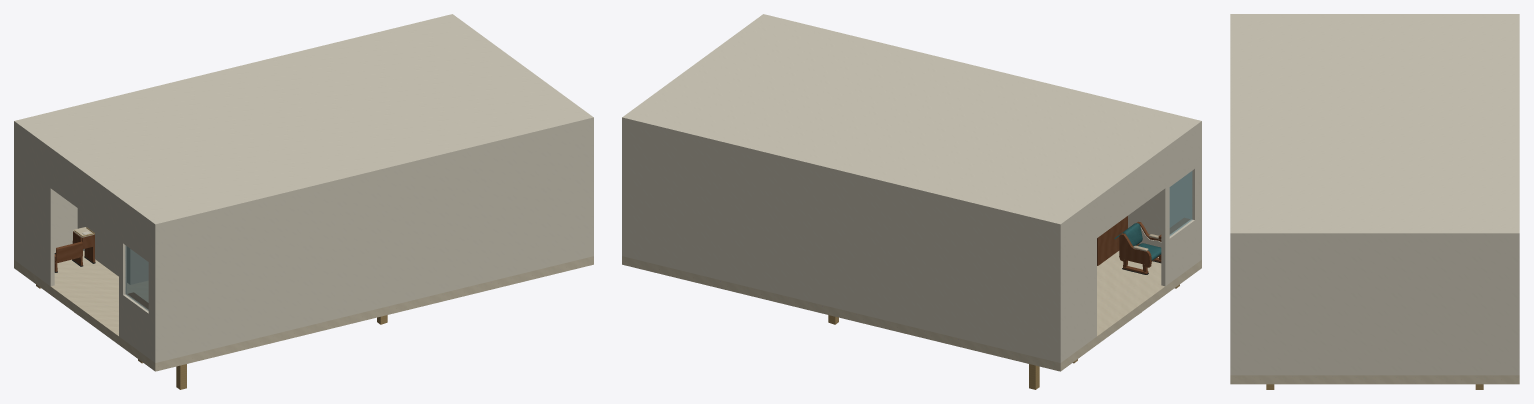
File: NightGardenD15Specialty_410_r002.glb
3 views of the same model, side by side, from view 1: azimuth 30°, elevation 25°; view 2: azimuth 150°, elevation 25°; view 3: azimuth 270°, elevation 25° (orthographic). The views are drawn at different scales.
Parts seen in each view (by area): view 1: NG410_RuntimeBatch_001, NG410_RoomFloor, NG410_ScreenedStreetGlass, NG410_RuntimeBatch_013; view 2: NG410_RuntimeBatch_001, NG410_RoomFloor, NG410_ScreenedStreetGlass, NG410_RuntimeBatch_049, NG410_RuntimeBatch_002; view 3: NG410_RuntimeBatch_001, NG410_RoomFloor.
Part boxes in pixels (x1,y1,x2,y2): NG410_RuntimeBatch_001: (14, 14, 593, 362); NG410_RoomFloor: (14, 250, 593, 371); NG410_ScreenedStreetGlass: (125, 245, 148, 310); NG410_RuntimeBatch_013: (54, 231, 95, 271); NG410_RuntimeBatch_001: (622, 14, 1201, 362); NG410_RoomFloor: (622, 251, 1201, 371); NG410_ScreenedStreetGlass: (1169, 171, 1192, 235); NG410_RuntimeBatch_049: (1119, 221, 1161, 274); NG410_RuntimeBatch_002: (1097, 216, 1190, 265); NG410_RuntimeBatch_001: (1230, 14, 1519, 375); NG410_RoomFloor: (1230, 375, 1519, 384).
Bounding box in the file's own units: 12.9 × 5.31 × 7.2.
Materials: 64 (49 with a texture image).
